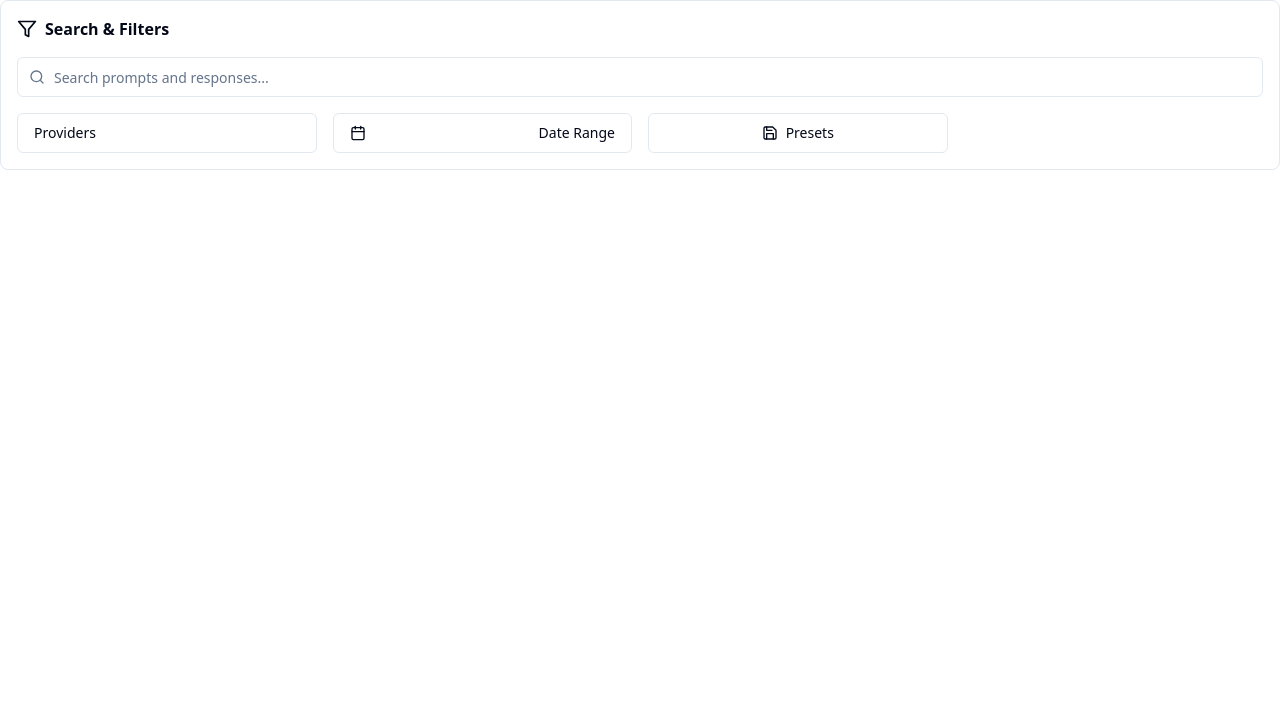
Test: SearchFilterPanel › Provider Filter Dropdown › should display all available providers in dropdown
This screenshot has width=1280, height=720.
Click the button "Providers" at (65,132), box x1=17 y1=113 x2=316 y2=153
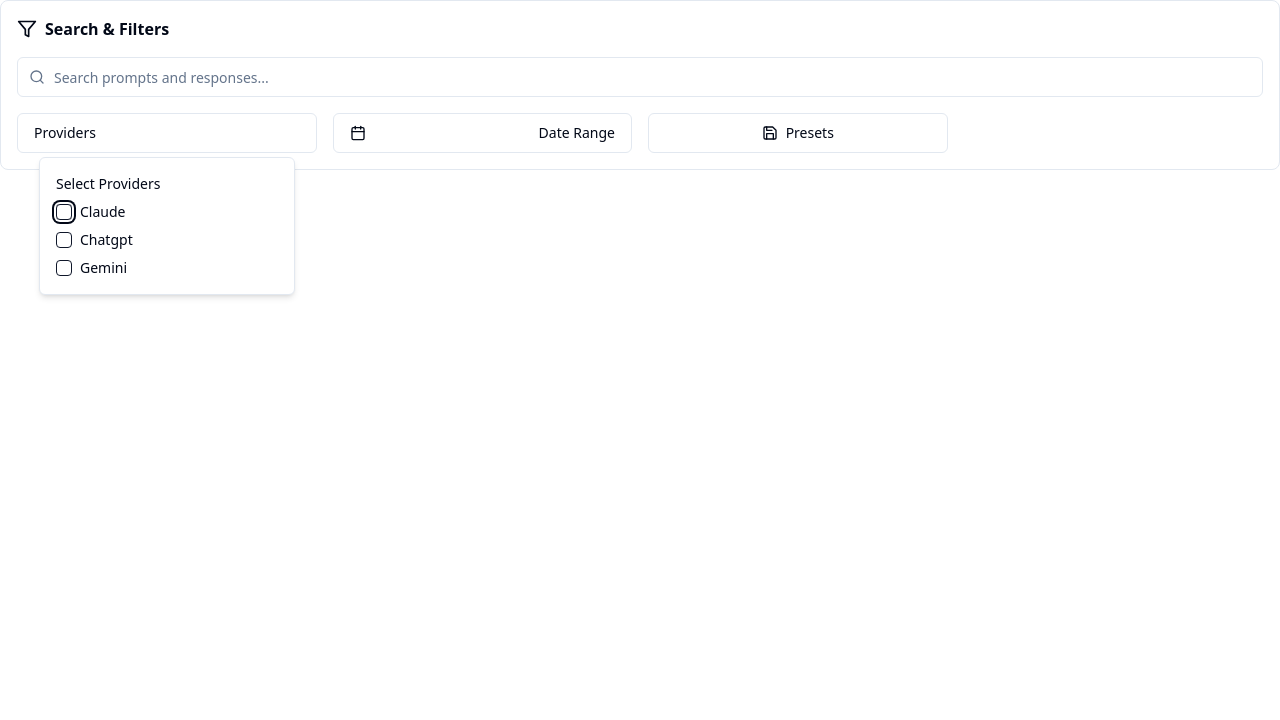
Check: the heading "Select Providers" is shown, box x1=56 y1=174 x2=160 y2=193
Check: the checkbox named "claude" next to "claude" is shown, box x1=56 y1=204 x2=72 y2=220
Check: the checkbox named "chatgpt" next to "chatgpt" is shown, box x1=56 y1=232 x2=72 y2=248
